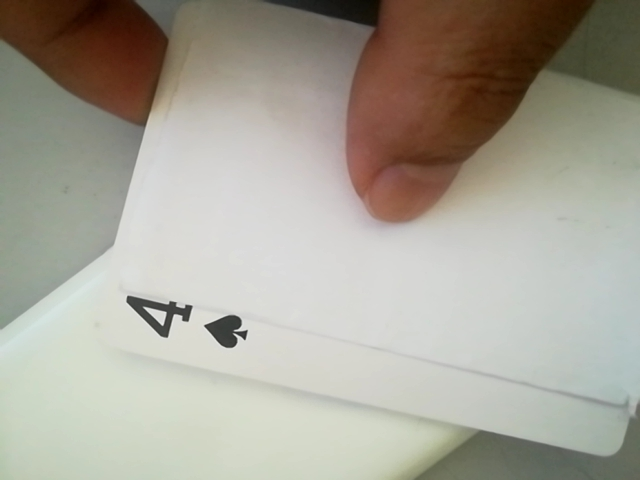ht 4: (101, 286, 272, 366)
